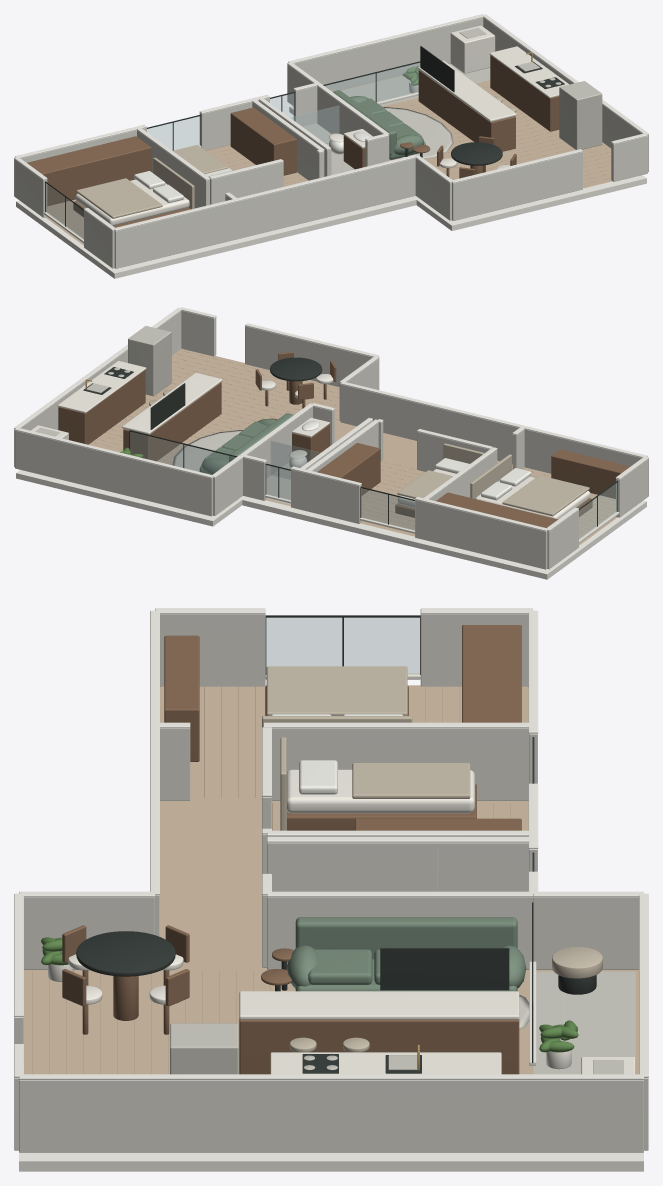
The model's file is moradas-type-1.glb.
3 renders of one model, top to bottom at view 1: azimuth 30°, elevation 25°; view 2: azimuth 150°, elevation 25°; view 3: azimuth 270°, elevation 25°, orthographic. The views are drawn at different scales.
Parts seen in each view (by area): view 1: architecture_plaster, architecture_cap, kitchen_oak, bedroom_oak, architecture_glass, single_oak, kitchen_ivory, kitchen_stone, bedroom_linen, living_floor, kitchen_floor, living_charcoal (+16 smaller); view 2: architecture_plaster, architecture_cap, living_floor, kitchen_oak, architecture_glass, bedroom_oak, kitchen_ivory, bedroom_linen, kitchen_stone, single_floor, single_oak, living_charcoal (+16 smaller); view 3: architecture_plaster, architecture_cap, architecture_floor, living_floor, kitchen_ivory, living_sage, bedroom_floor, kitchen_oak, bedroom_oak, living_charcoal, bedroom_linen, architecture_glass (+15 smaller).
Boxes of the visible parts, x1,y1,x2,y2 form: architecture_plaster: [14, 17, 648, 268]; architecture_cap: [14, 14, 648, 278]; kitchen_oak: [418, 55, 559, 151]; bedroom_oak: [27, 136, 190, 227]; architecture_glass: [45, 63, 419, 239]; single_oak: [230, 107, 296, 175]; kitchen_ivory: [417, 46, 569, 121]; kitchen_stone: [517, 62, 602, 149]; bedroom_linen: [76, 157, 194, 218]; living_floor: [389, 99, 611, 186]; kitchen_floor: [478, 82, 606, 162]; living_charcoal: [405, 46, 502, 165]; architecture_plaster: [14, 310, 648, 569]; architecture_cap: [14, 307, 648, 579]; living_floor: [157, 349, 339, 464]; kitchen_oak: [58, 369, 221, 461]; architecture_glass: [130, 432, 617, 539]; bedroom_oak: [436, 449, 630, 527]; kitchen_ivory: [57, 361, 222, 434]; bedroom_linen: [470, 454, 589, 516]; kitchen_stone: [87, 326, 171, 396]; single_floor: [361, 460, 425, 534]; single_oak: [317, 443, 414, 517]; living_charcoal: [150, 357, 322, 429]; architecture_plaster: [14, 614, 648, 1152]; architecture_cap: [14, 608, 648, 1171]; architecture_floor: [23, 685, 638, 1074]; living_floor: [25, 971, 525, 1074]; kitchen_ivory: [239, 991, 519, 1074]; living_sage: [287, 917, 526, 991]; bedroom_floor: [160, 686, 527, 798]; kitchen_oak: [239, 1019, 519, 1074]; bedroom_oak: [164, 625, 521, 761]; living_charcoal: [76, 931, 509, 991]; bedroom_linen: [262, 666, 412, 727]; architecture_glass: [266, 618, 419, 673].
Bounding box in the file's own units: 11.77 × 1.53 × 6.72.
